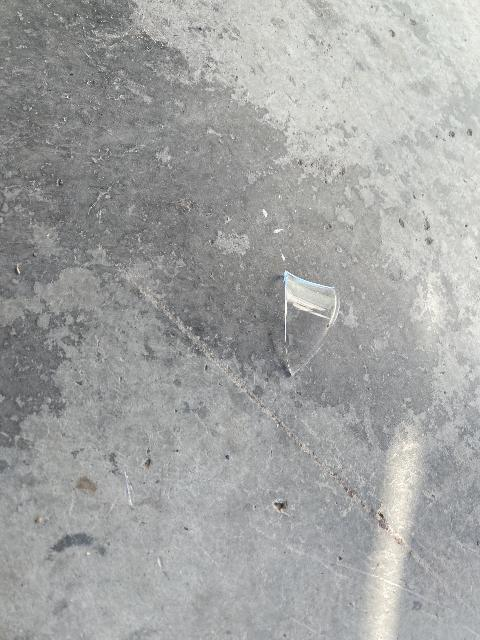Cam: (279, 263, 340, 381)
